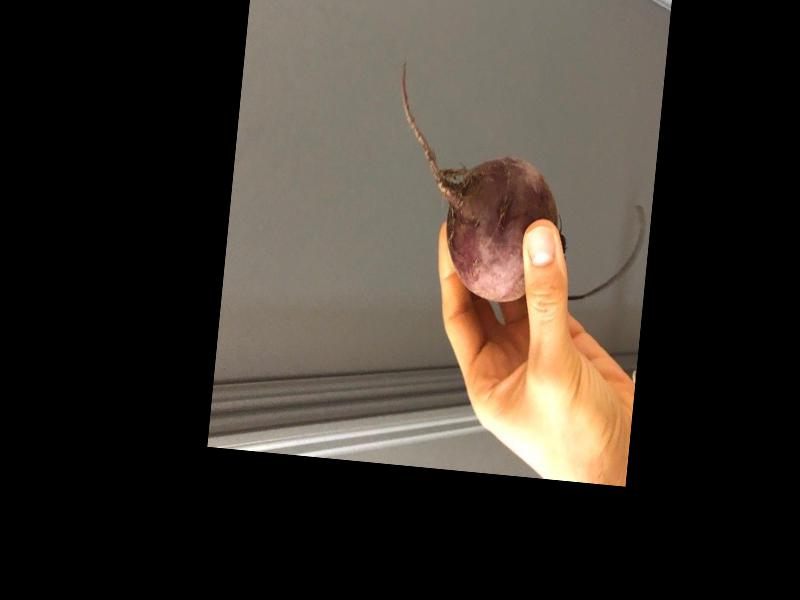Beet: (382, 59, 659, 314)
